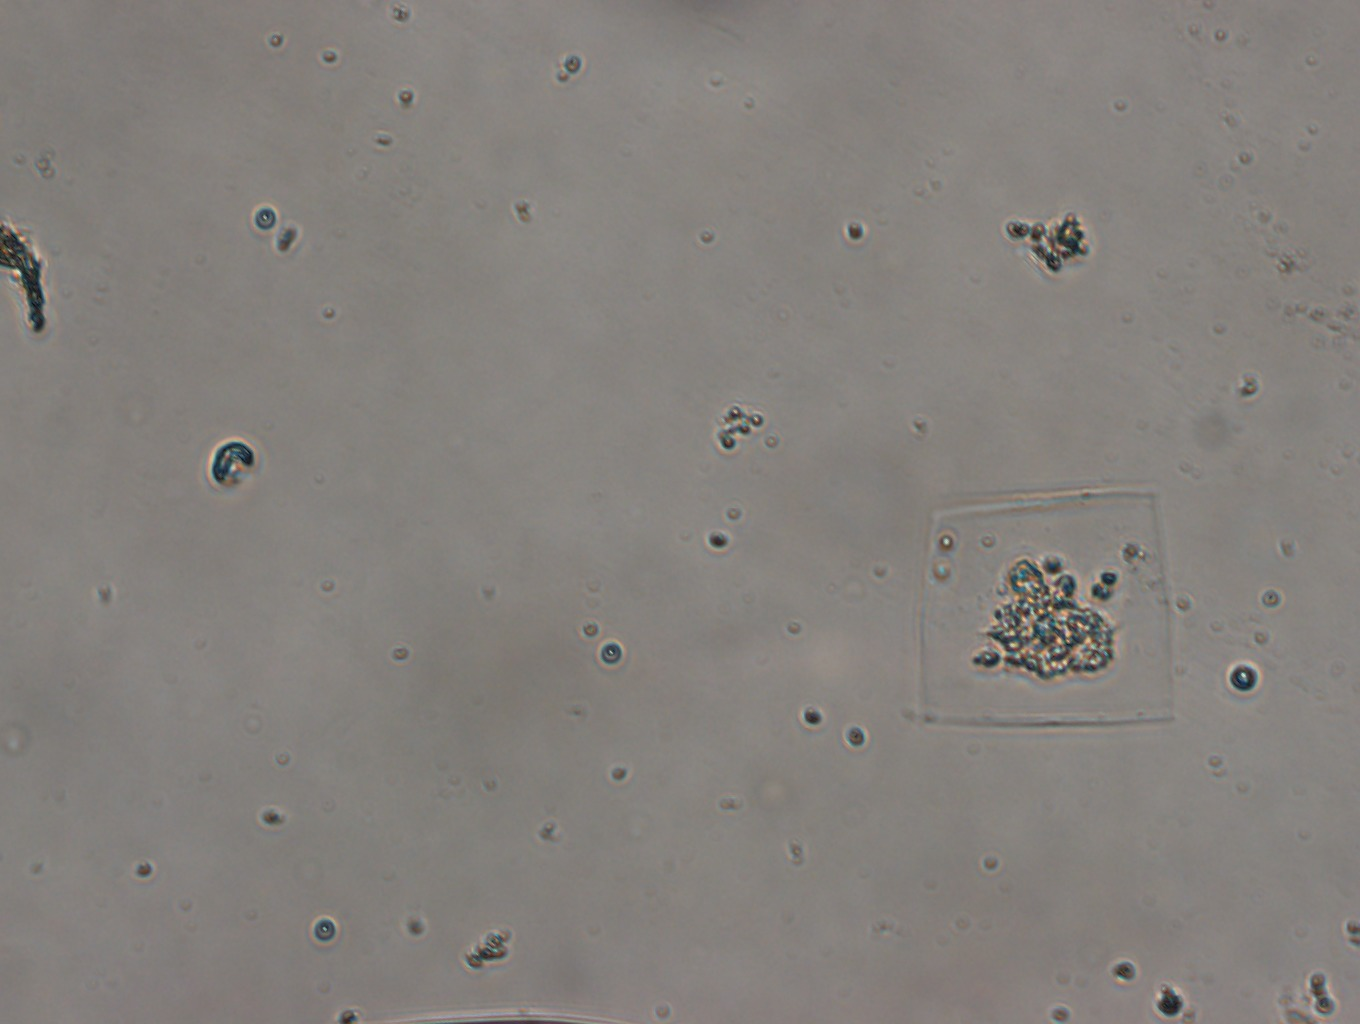helicotheca: (918, 485, 1179, 731)
